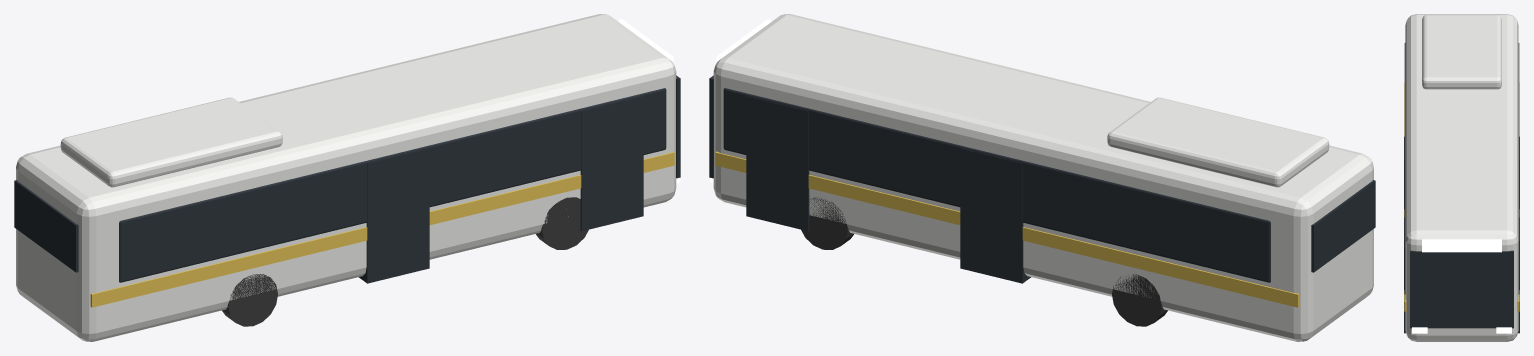
The model's file is bus.glb.
The picture shows the model from 3 angles, left to right: view 1: azimuth 30°, elevation 25°; view 2: azimuth 150°, elevation 25°; view 3: azimuth 270°, elevation 25°; orthographic projection. The views are drawn at different scales.
Parts seen in each view (by area): view 1: Kasten; view 2: Kasten; view 3: Kasten.
Part boxes in pixels (box(x1,y1,x2,y2)): Kasten: box(14, 14, 680, 341); Kasten: box(709, 14, 1375, 341); Kasten: box(1404, 14, 1519, 341).
Bounding box in the file's own units: 12.1 × 3.37 × 2.61.
